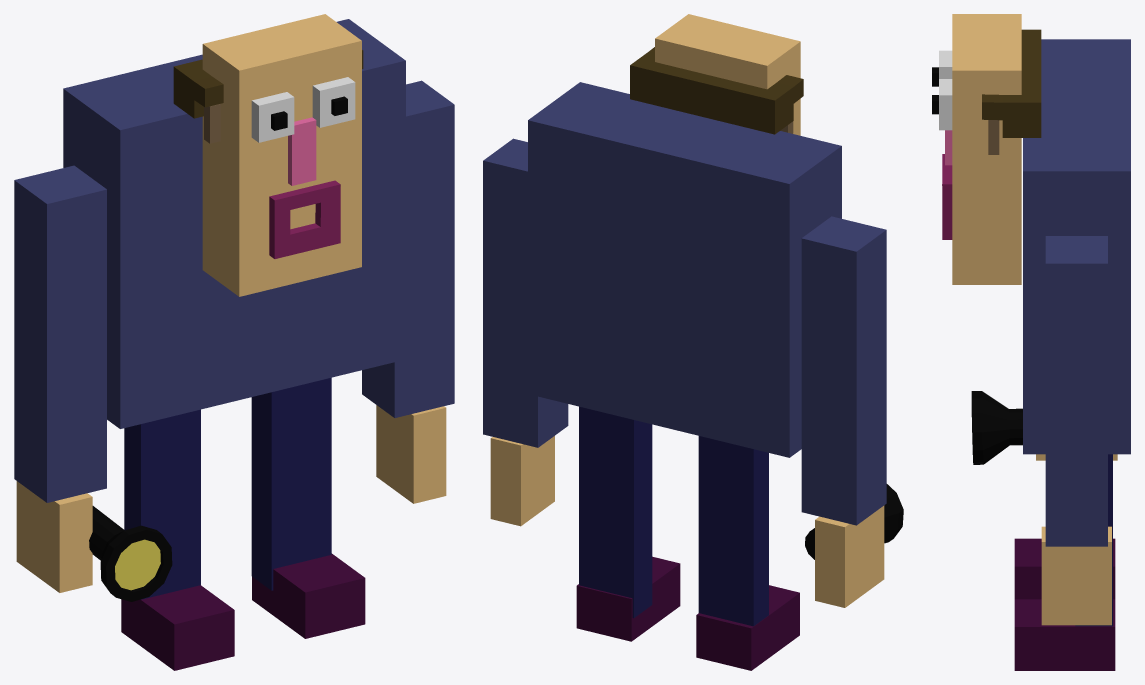
The model's file is man.glb.
3 views of the same model, side by side, from view 1: azimuth 30°, elevation 25°; view 2: azimuth 150°, elevation 25°; view 3: azimuth 270°, elevation 25° (orthographic). The views are drawn at different scales.
Parts seen in each view (by area): view 1: Cube.001, Cube, Cube.002, Cube.003, Cube.005, Cube.004, Cube.007, Cube.006, Cube.009, Cube.008, Cylinder, Cube.016 (+4 smaller); view 2: Cube.001, Cube.002, Cube.003, Cube.005, Cube.004, Cube.013, Cube, Cube.009, Cube.007, Cube.008, Cube.006, Cylinder; view 3: Cube.001, Cube.003, Cube, Cube.008, Cube.006, Cube.013, Cylinder, Cube.007, Cube.016, Cube.010, Cube.005, Cube.014 (+1 smaller).
Boxes of the visible parts, left/top/right/bottom form: Cube.001: left=63, top=19, right=405, bottom=428; Cube: left=202, top=14, right=361, bottom=296; Cube.002: left=14, top=165, right=106, bottom=502; Cube.003: left=362, top=80, right=454, bottom=417; Cube.005: left=251, top=377, right=331, bottom=590; Cube.004: left=124, top=409, right=200, bottom=599; Cube.007: left=121, top=585, right=234, bottom=670; Cube.006: left=252, top=553, right=365, bottom=638; Cube.009: left=16, top=481, right=92, bottom=592; Cube.008: left=376, top=405, right=446, bottom=503; Cylinder: left=89, top=506, right=172, bottom=601; Cube.016: left=269, top=180, right=340, bottom=258; Cube.001: left=528, top=82, right=841, bottom=457; Cube.002: left=801, top=216, right=886, bottom=525; Cube.003: left=483, top=138, right=568, bottom=447; Cube.005: left=579, top=406, right=652, bottom=618; Cube.004: left=698, top=436, right=768, bottom=626; Cube.013: left=630, top=47, right=803, bottom=134; Cube: left=655, top=14, right=800, bottom=135; Cube.009: left=815, top=505, right=884, bottom=607; Cube.007: left=696, top=585, right=799, bottom=670; Cube.008: left=490, top=436, right=554, bottom=526; Cube.006: left=576, top=556, right=680, bottom=641; Cylinder: left=805, top=484, right=903, bottom=559; Cube.001: left=1023, top=39, right=1130, bottom=454; Cube.003: left=1045, top=236, right=1107, bottom=546; Cube: left=952, top=14, right=1021, bottom=284; Cube.008: left=1041, top=526, right=1111, bottom=625; Cube.006: left=1014, top=599, right=1115, bottom=670; Cube.013: left=982, top=29, right=1041, bottom=137; Cylinder: left=971, top=391, right=1022, bottom=464; Cube.007: left=1014, top=538, right=1115, bottom=599; Cube.016: left=942, top=154, right=952, bottom=239; Cube.010: left=939, top=79, right=952, bottom=130; Cube.005: left=1075, top=454, right=1112, bottom=626; Cube.014: left=988, top=120, right=999, bottom=154.
Bounding box in the file's own units: 2.85 × 4.12 × 1.27.
